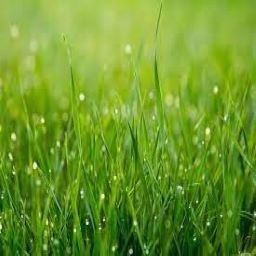grass: (2, 3, 249, 251)
